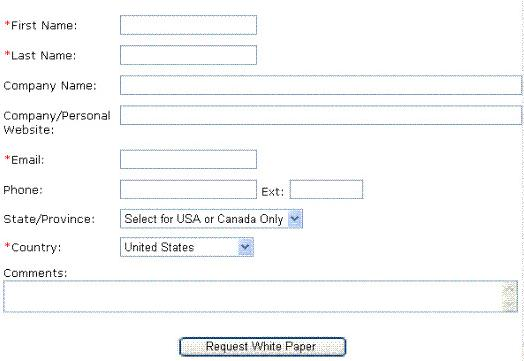button: (178, 336, 347, 358)
field: (1, 279, 519, 314), (118, 104, 524, 126), (118, 74, 524, 95), (119, 208, 304, 230), (118, 45, 259, 66), (117, 149, 258, 170), (117, 179, 258, 200), (118, 15, 258, 36), (119, 236, 255, 257), (287, 179, 364, 200)
field_with_label: (4, 104, 524, 137), (3, 73, 524, 97), (3, 207, 306, 231), (4, 147, 260, 171), (4, 178, 259, 202), (4, 44, 261, 67), (4, 13, 259, 36), (2, 235, 257, 258), (261, 178, 366, 202)
